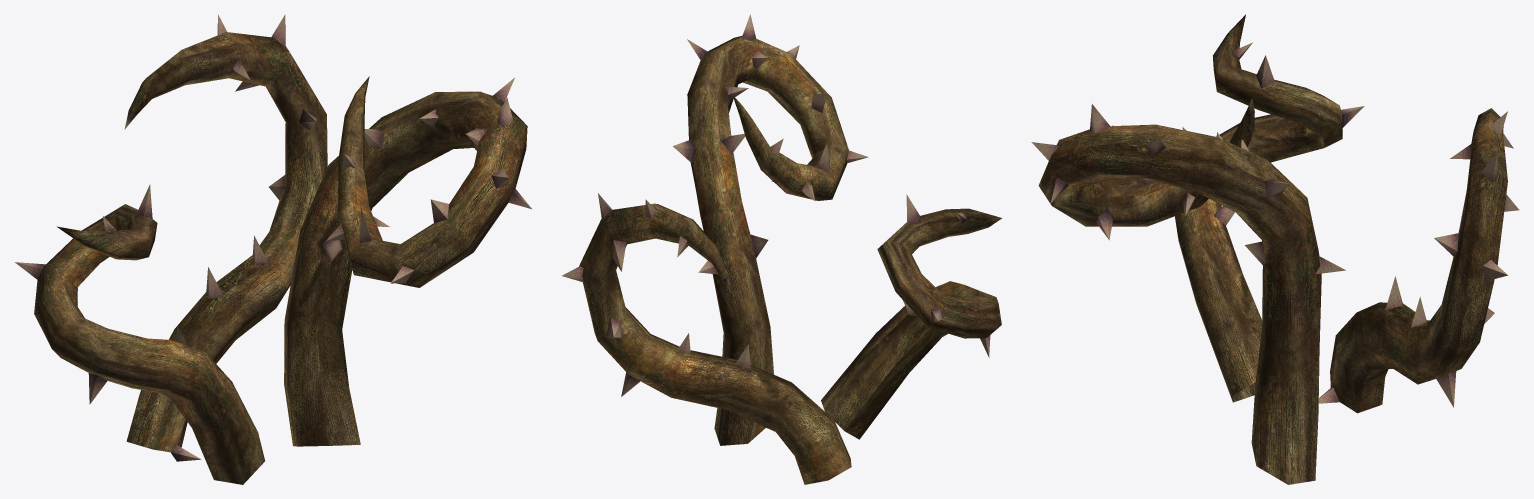
The model's file is obj_mtthund_thorn03_a.fbx.
The picture shows the model from 3 angles, left to right: view 1: azimuth 30°, elevation 25°; view 2: azimuth 150°, elevation 25°; view 3: azimuth 270°, elevation 25°; orthographic projection. The views are drawn at different scales.
Visible parts, largest first — view 1: obj_mtthund_thorn03_a; view 2: obj_mtthund_thorn03_a; view 3: obj_mtthund_thorn03_a.
Boxes of the visible parts, x1=… form: obj_mtthund_thorn03_a: x1=14, y1=14, x2=531, y2=484; obj_mtthund_thorn03_a: x1=562, y1=14, x2=1002, y2=484; obj_mtthund_thorn03_a: x1=1031, y1=14, x2=1519, y2=484.
Bounding box in the file's own units: 13.88 × 13.04 × 13.93.
